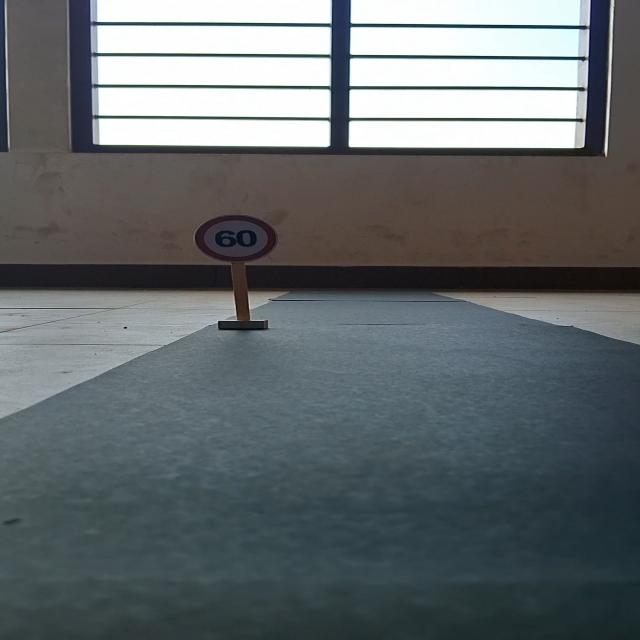Speed60: (193, 213, 275, 264)
